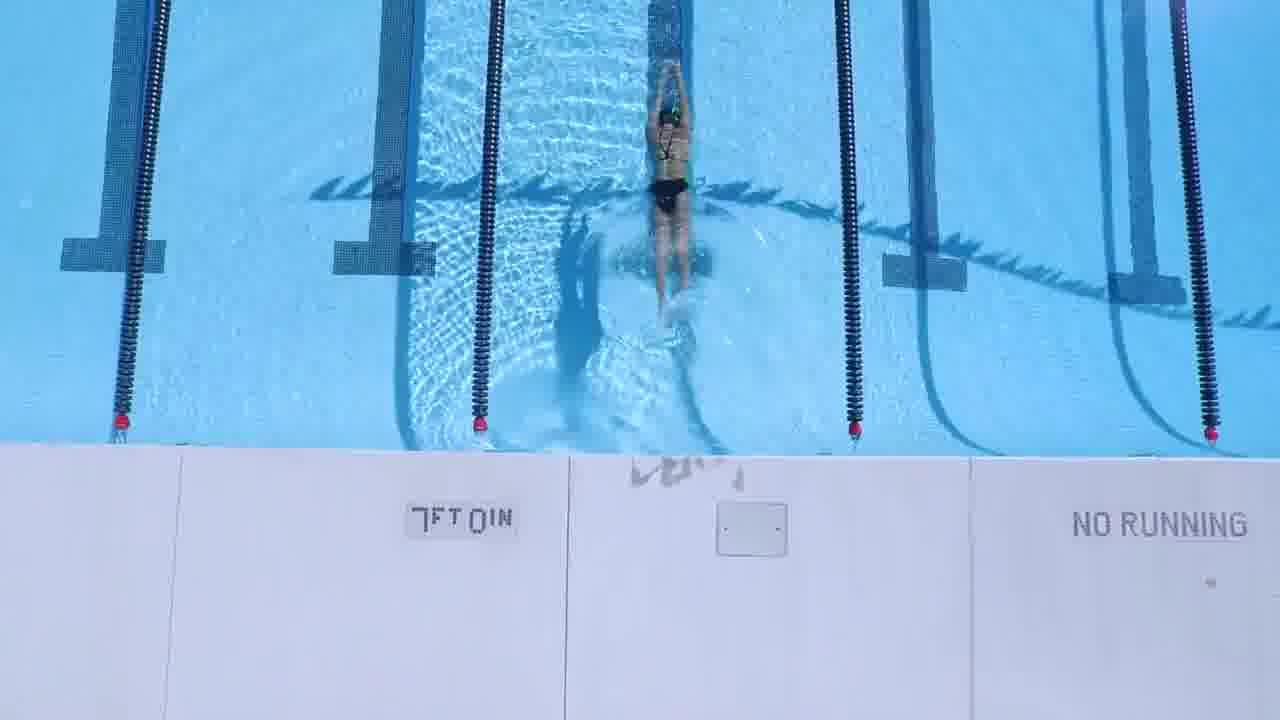swimmer: (652, 54, 698, 309)
